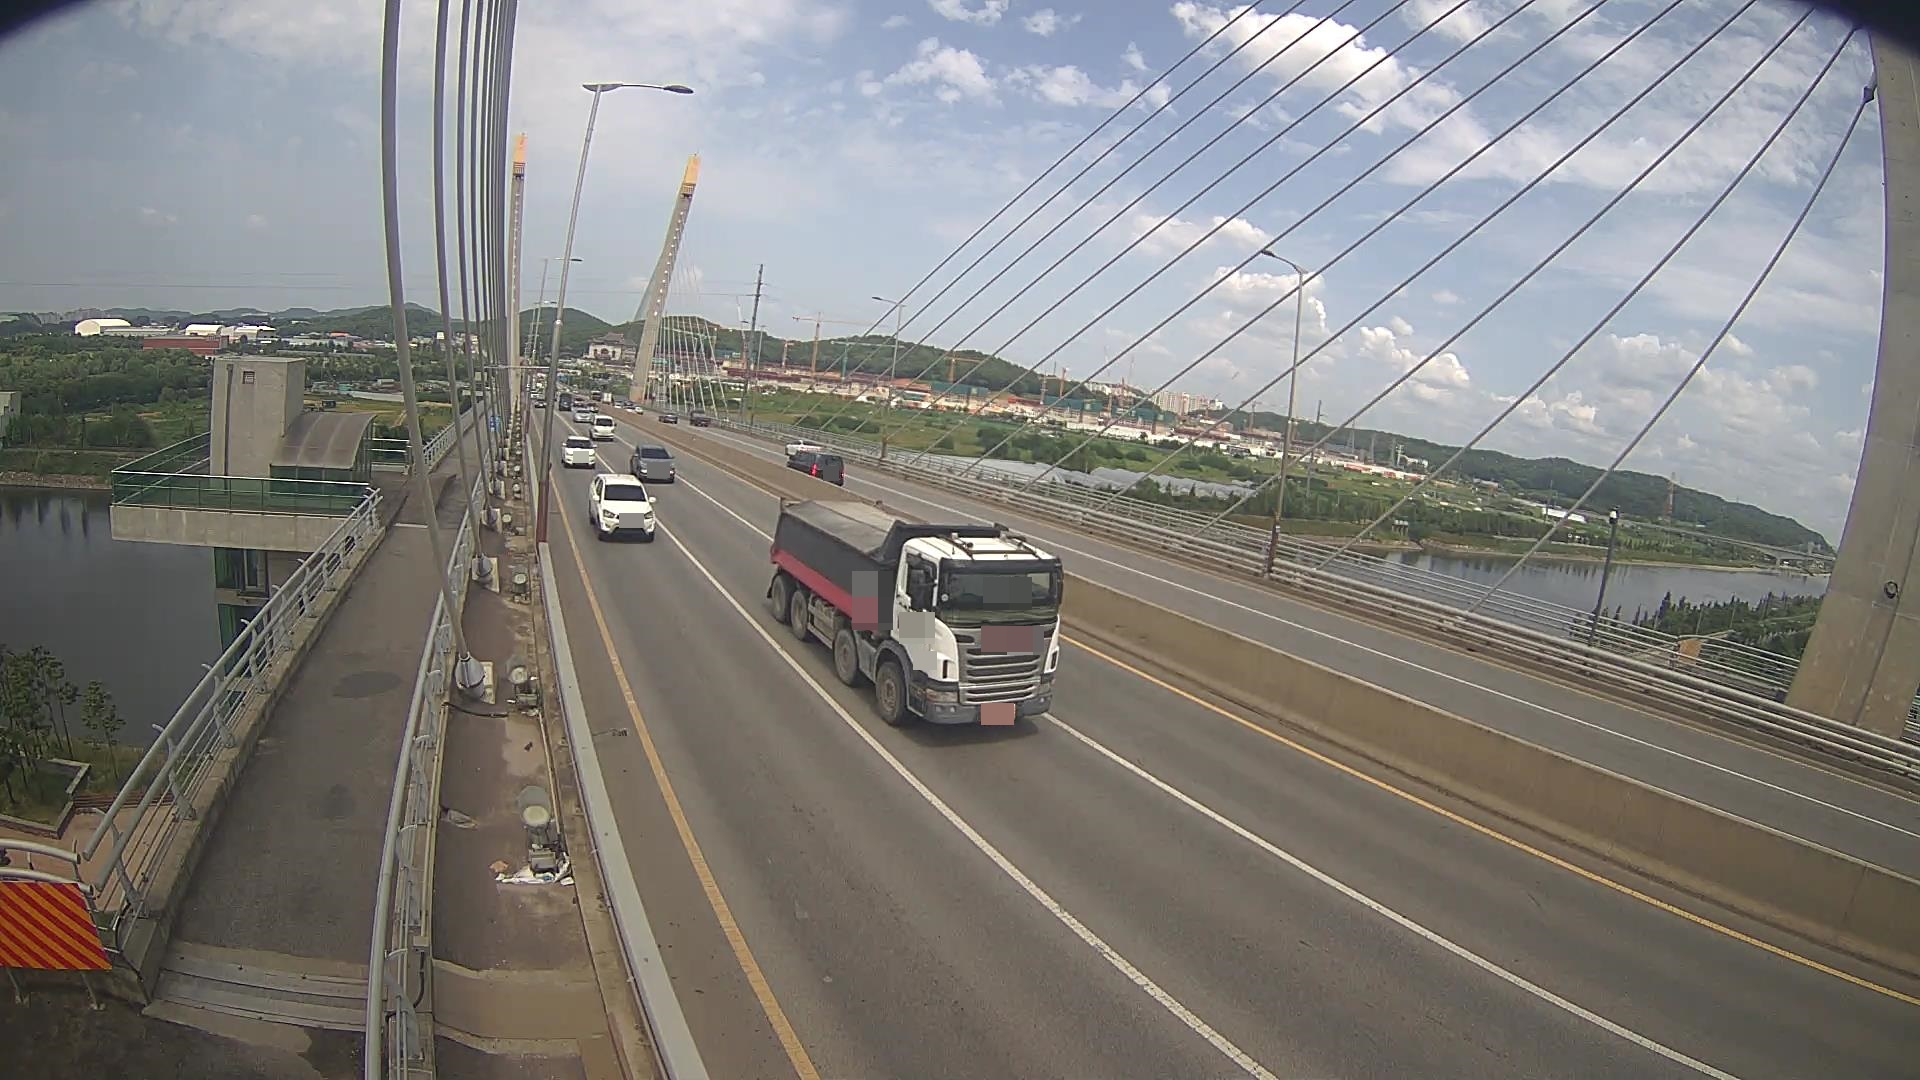정상차량: (766, 496, 1064, 724)
